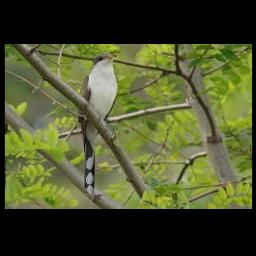Cuckoo: (78, 54, 120, 195)
